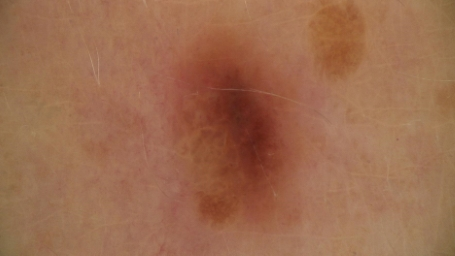nevus: (195, 72, 282, 226)
